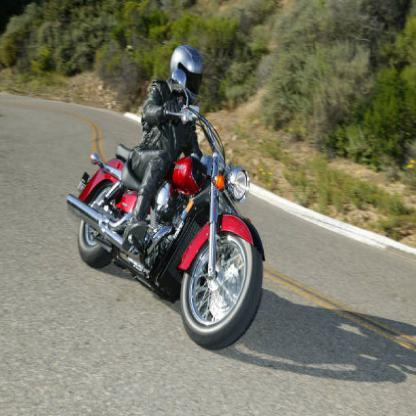Motorcycle: (63, 111, 262, 348)
